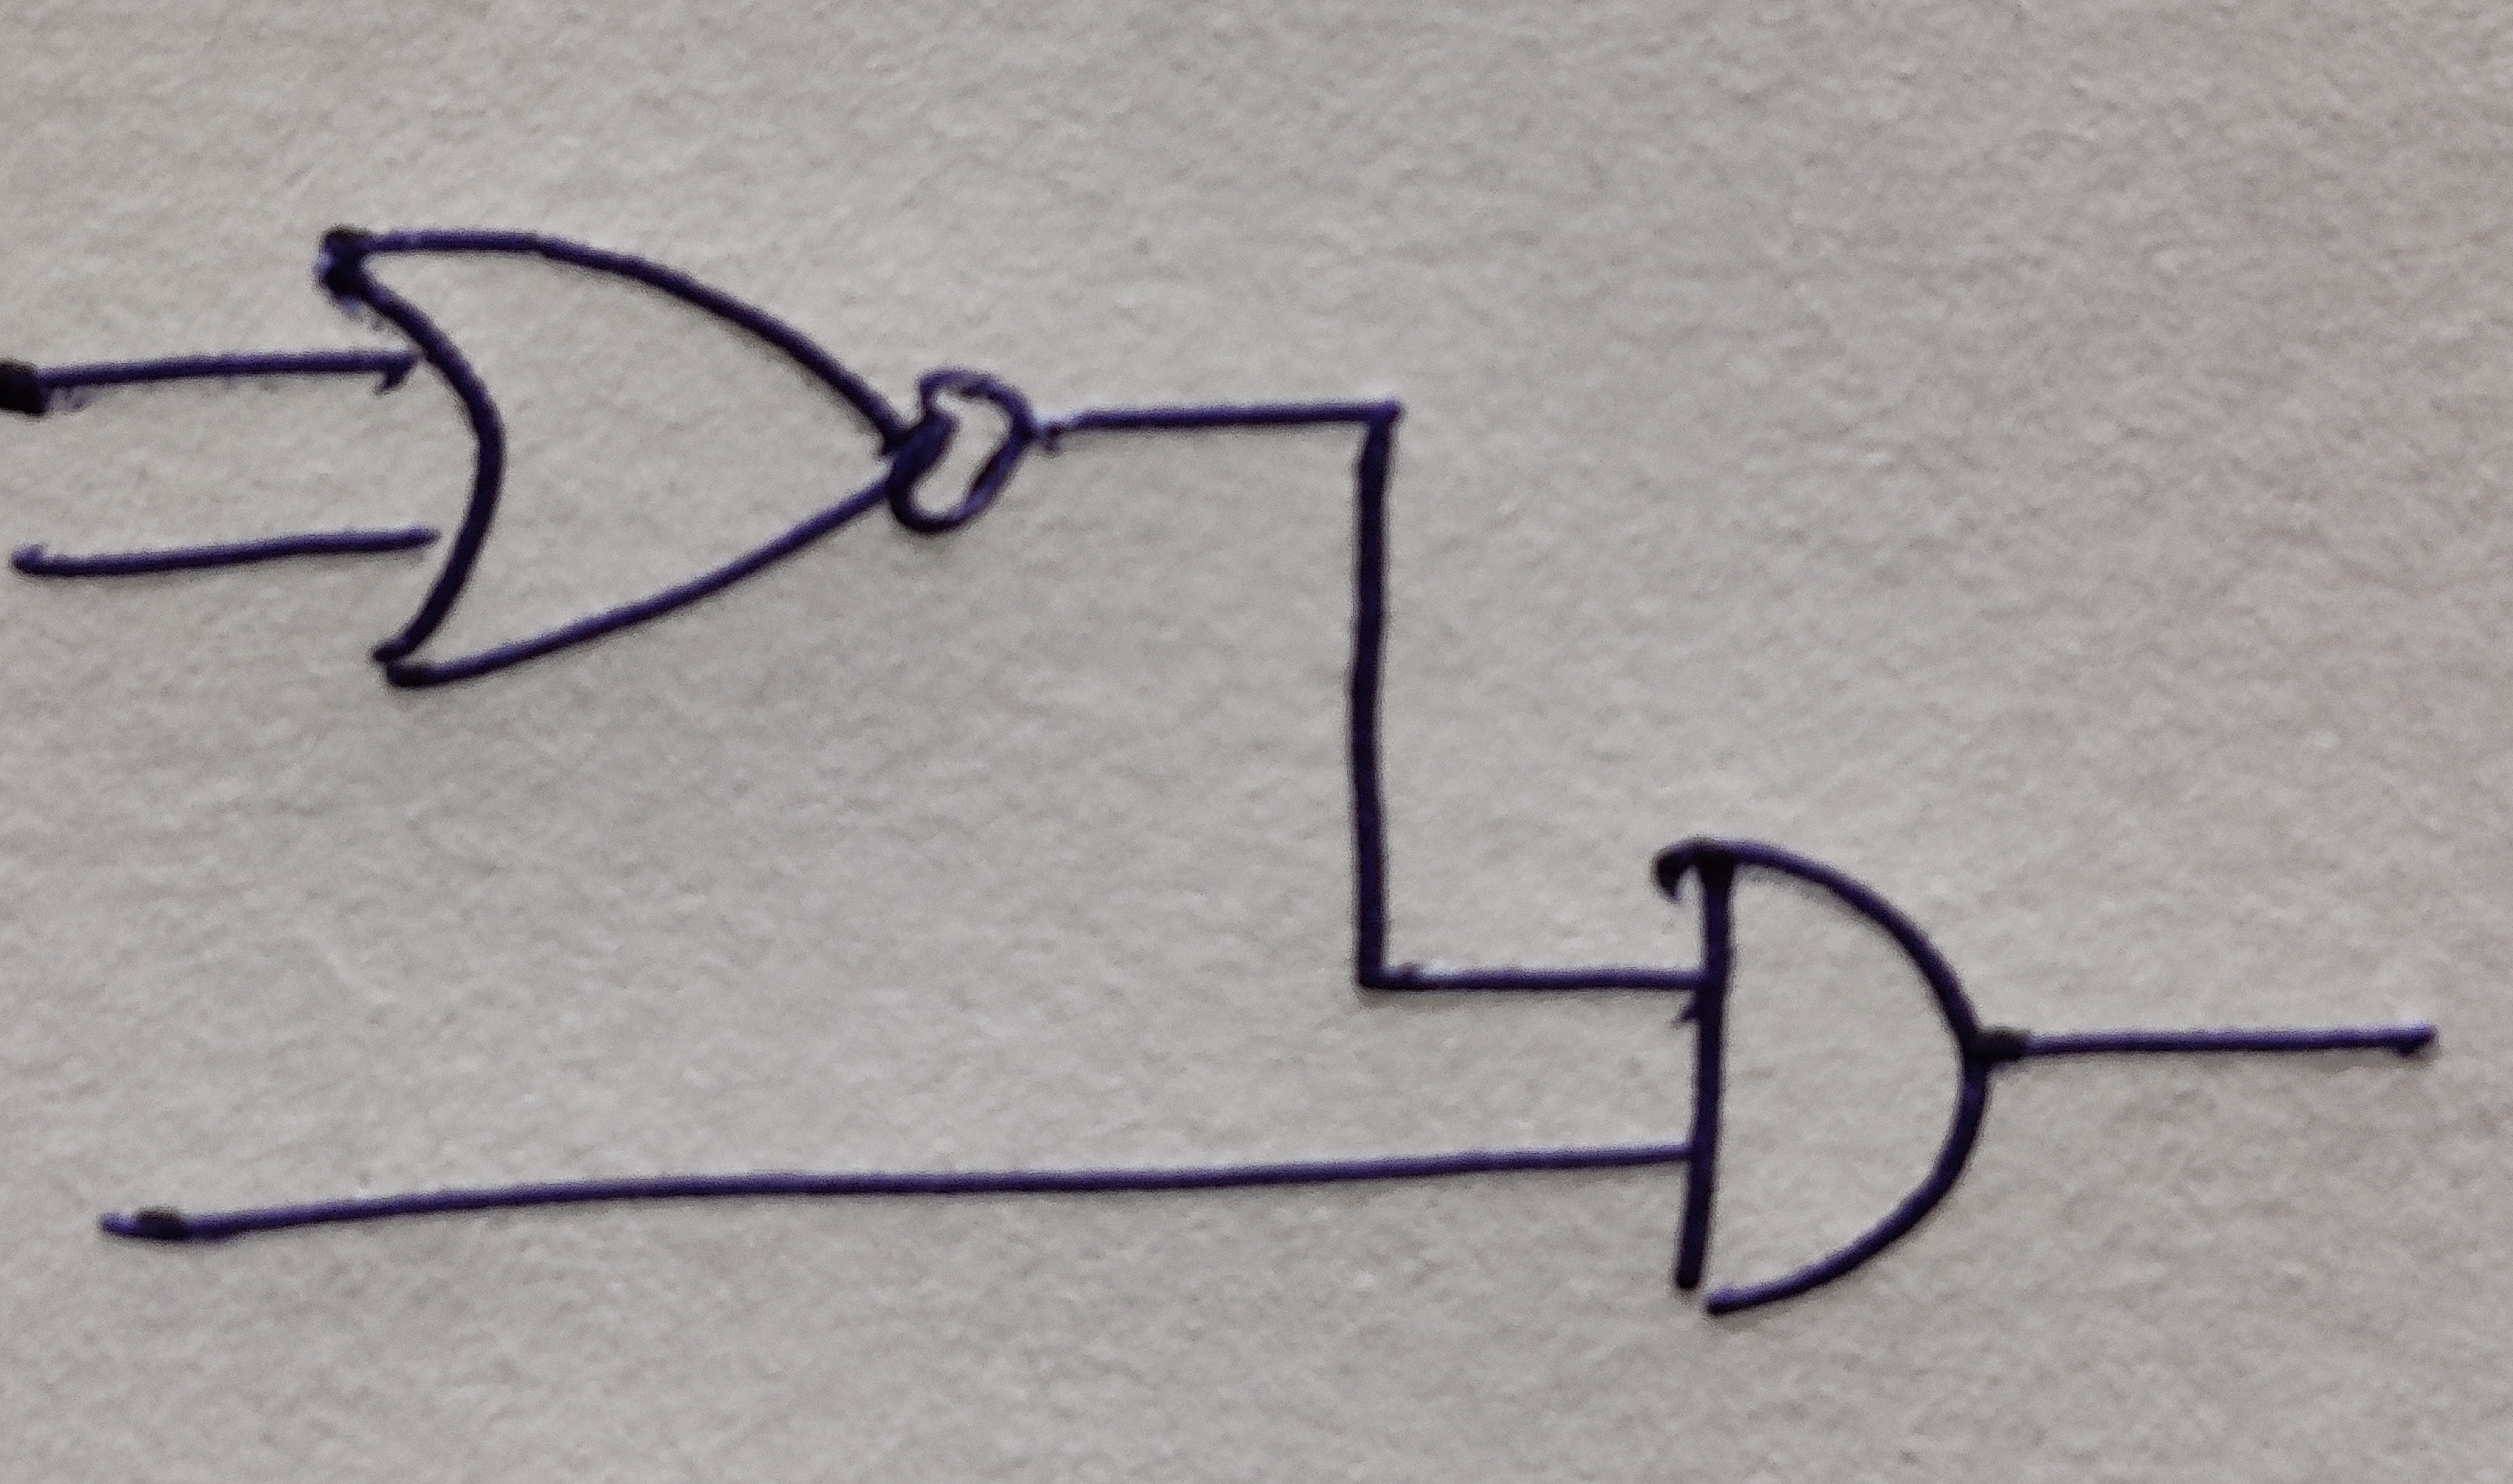and: (1656, 837, 1989, 1320)
not: (895, 367, 1035, 537)
or: (320, 224, 941, 685)
